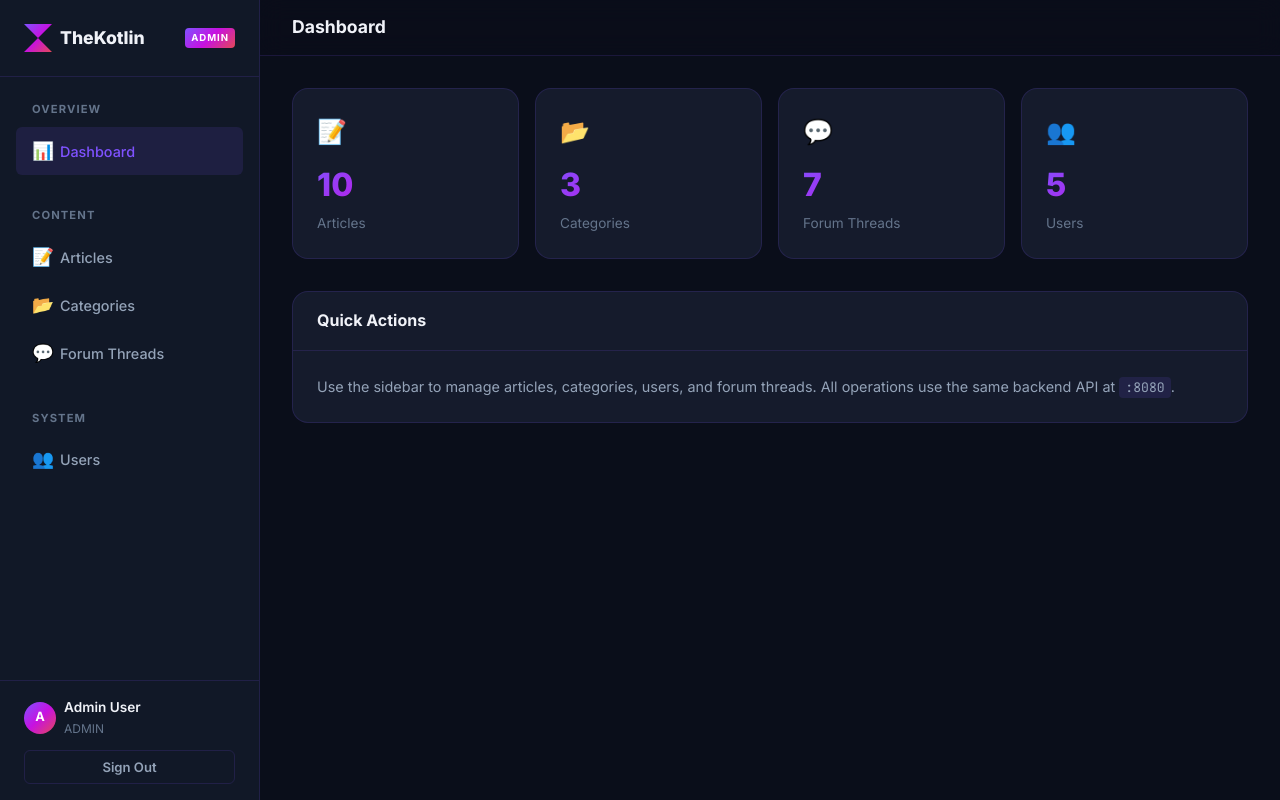
AdminPage — Navigation › navigates to Categories page
This screenshot has width=1280, height=800.
Expected: the text "Admin User" is shown, [64,699,141,715]
Click the element with class "sidebar-link" showing "📂 Categories" at (84, 305), box [32,294,135,315]
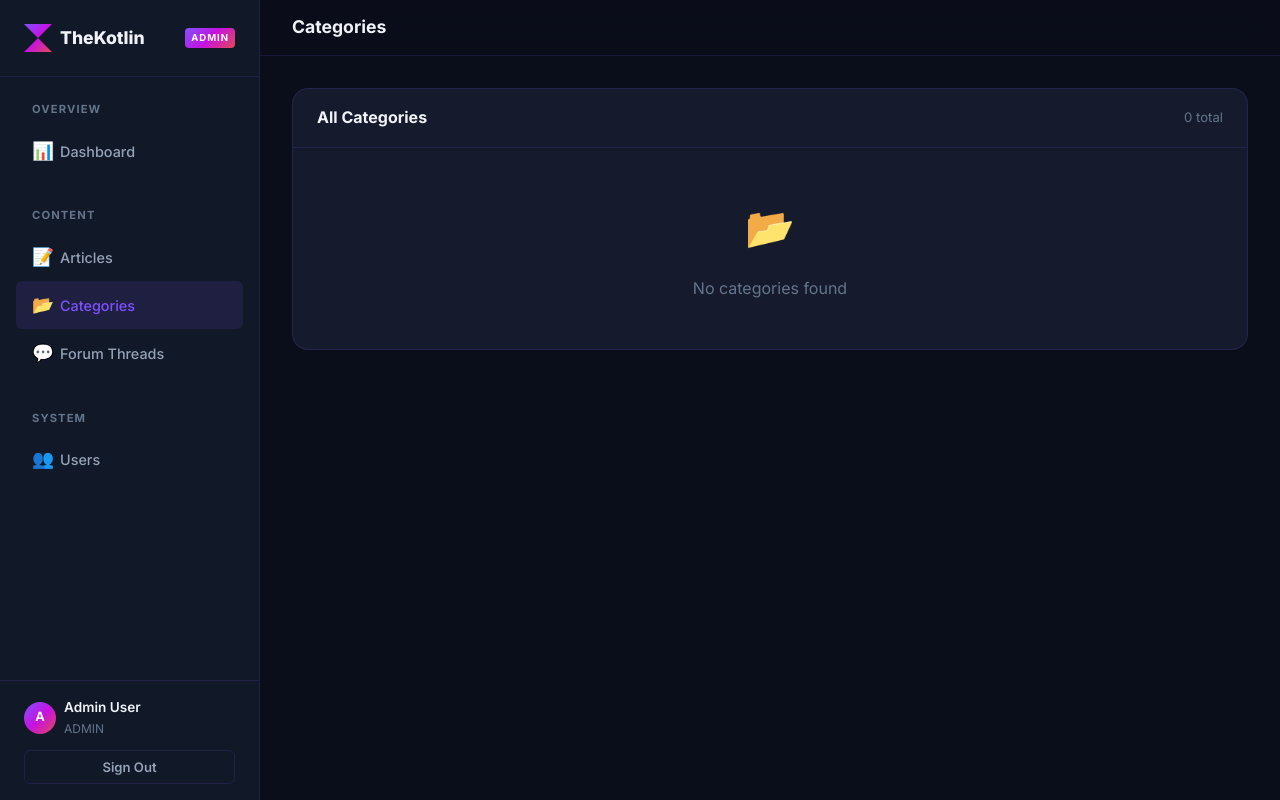
Expected: the heading "All Categories" is shown, [317,105,427,131]
